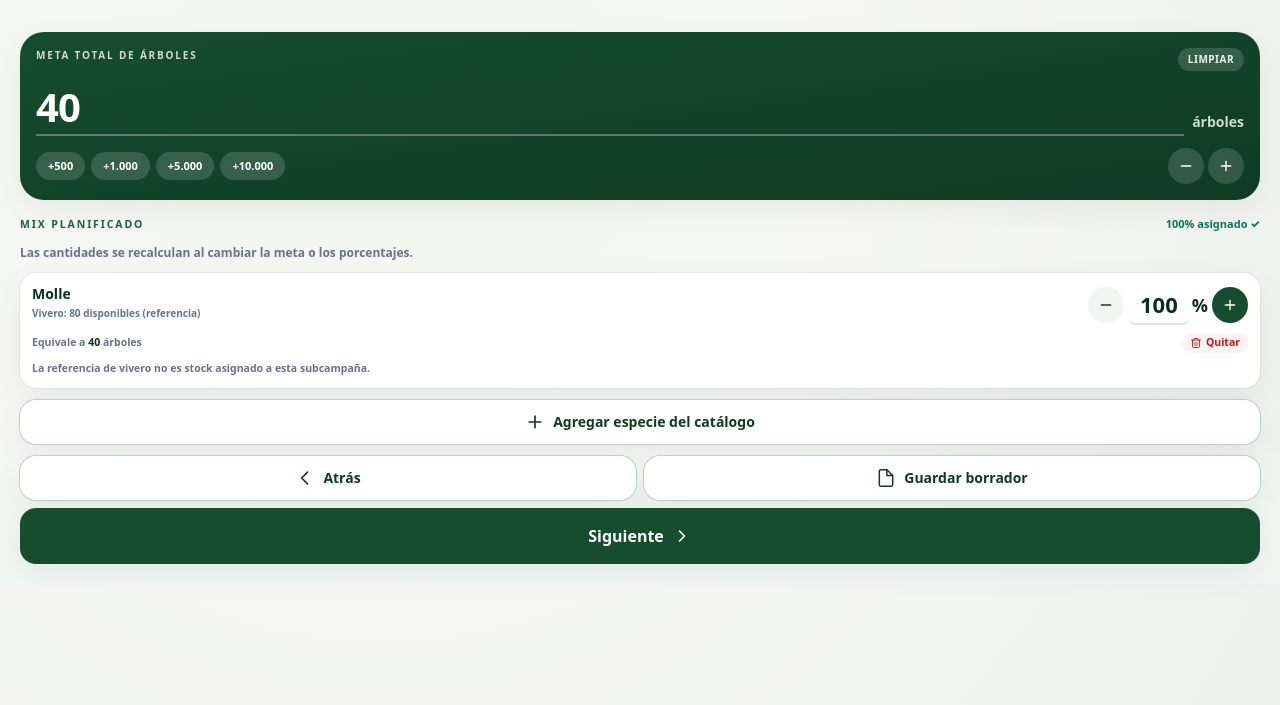
Test case: Plan coherente del asistente de subcampaña › rechaza una propuesta obsoleta antes de escribir si la revisión cambió desde la carga
Replace the text in the field labelled "Meta total de árboles" with "60": (610, 108) [36,79,1184,136]
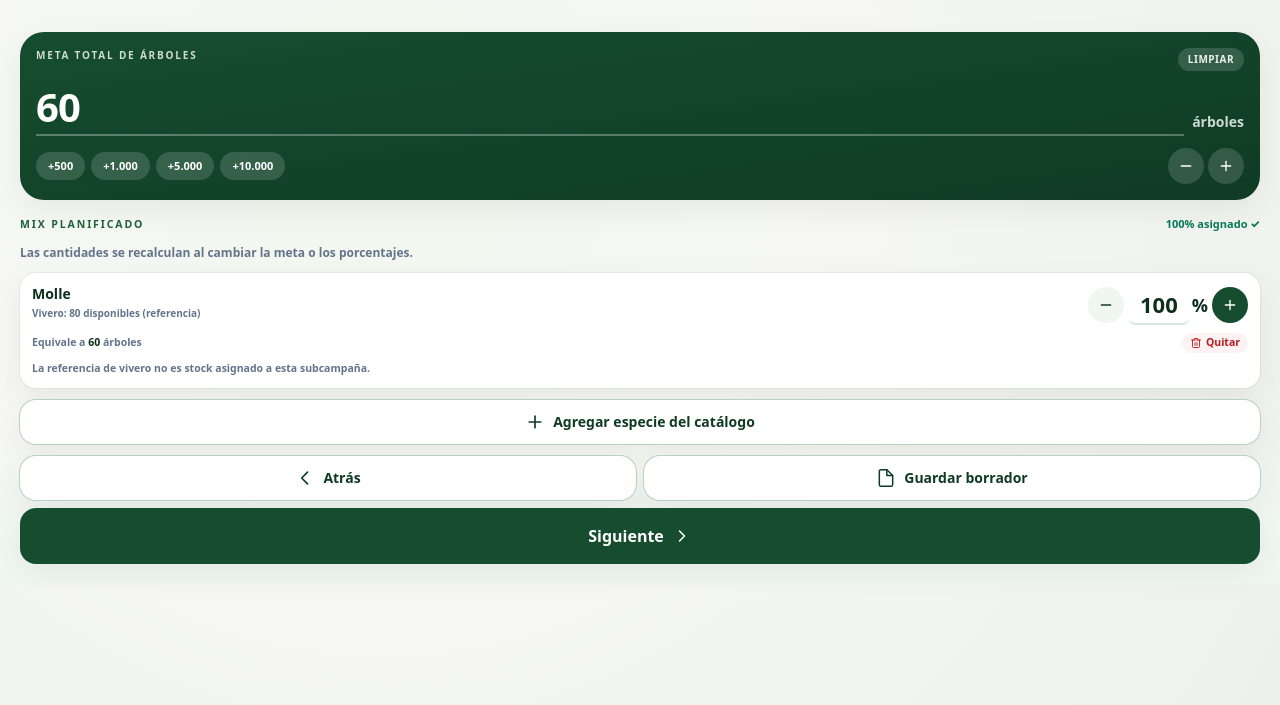
Click the button "Siguiente": (640, 536) [20,508,1260,564]
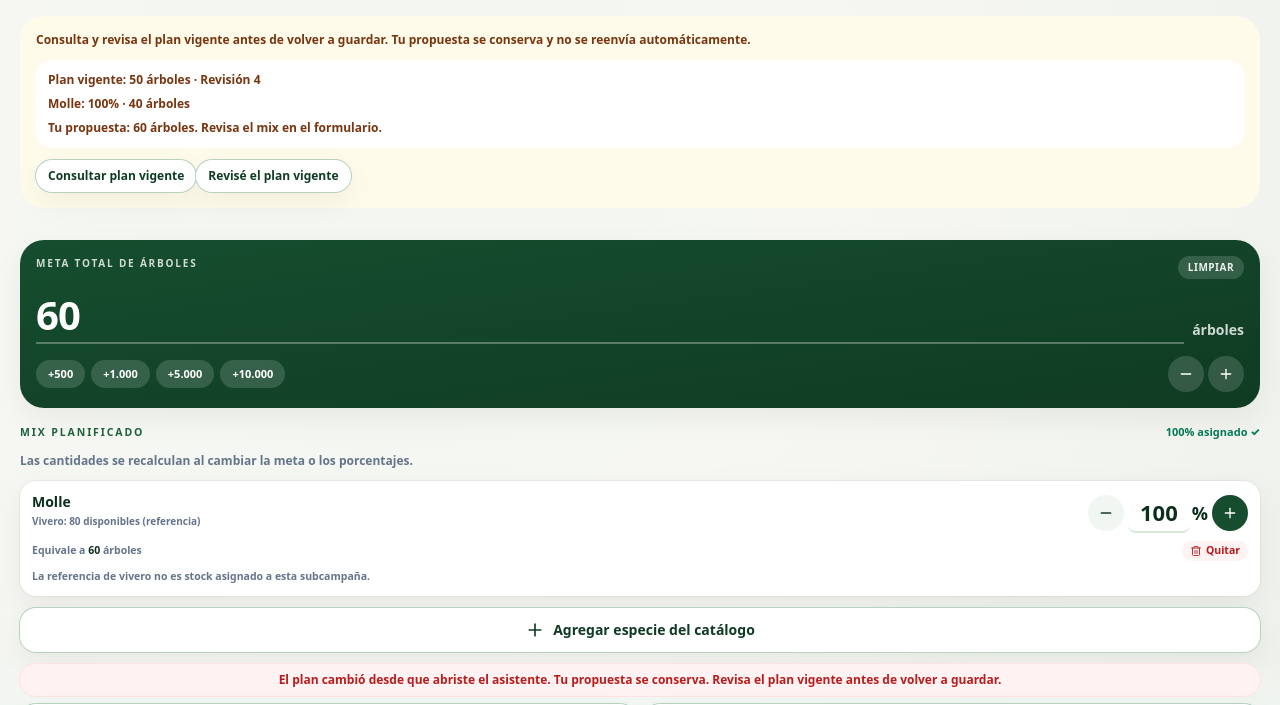
Expected: the text "El plan cambió desde que abriste el asistente" is shown, [279,671,1001,688]
